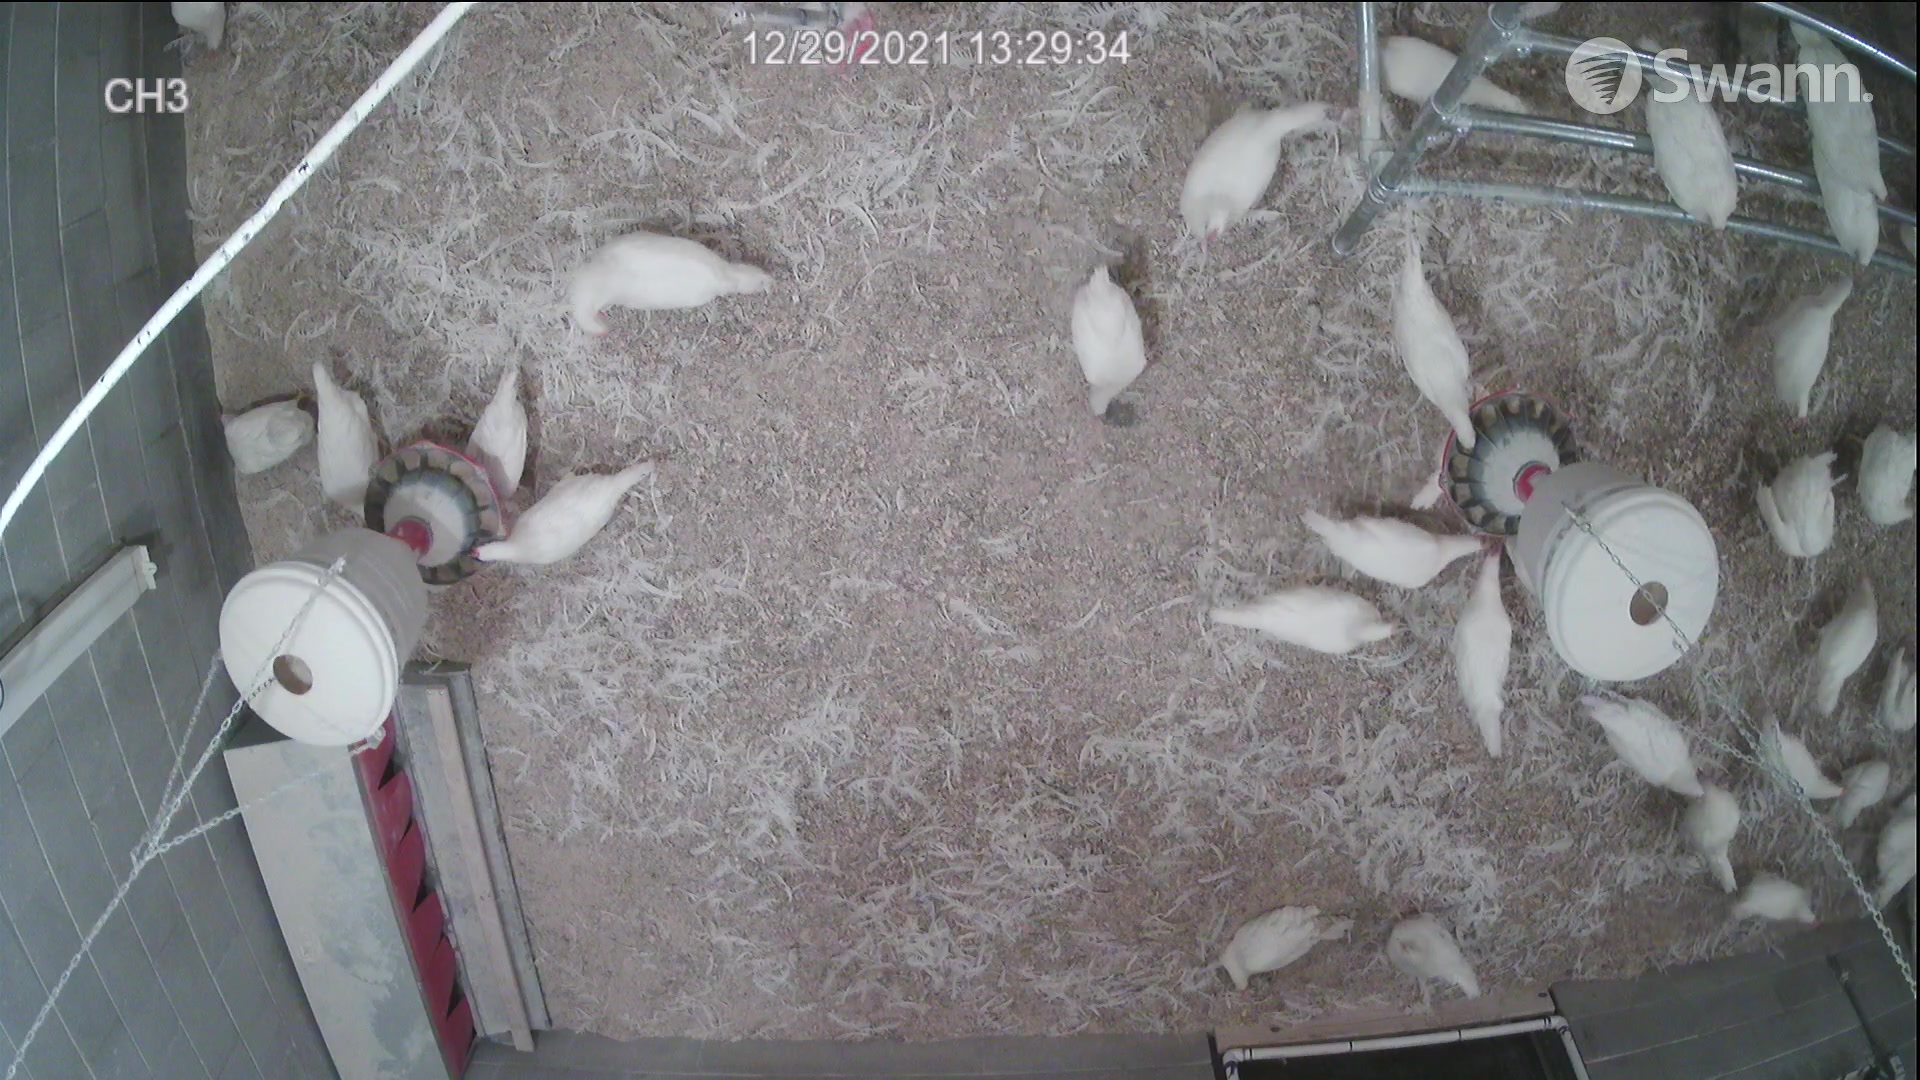Dust Bathing: (1215, 906, 1371, 997)
Feeding: (465, 443, 659, 589), (1389, 236, 1516, 454), (1455, 553, 1539, 753), (1303, 509, 1510, 567)
Foraging: (1063, 248, 1168, 422)
Perching: (1636, 44, 1745, 228), (1796, 8, 1884, 193)
Preening: (1742, 451, 1847, 559)
